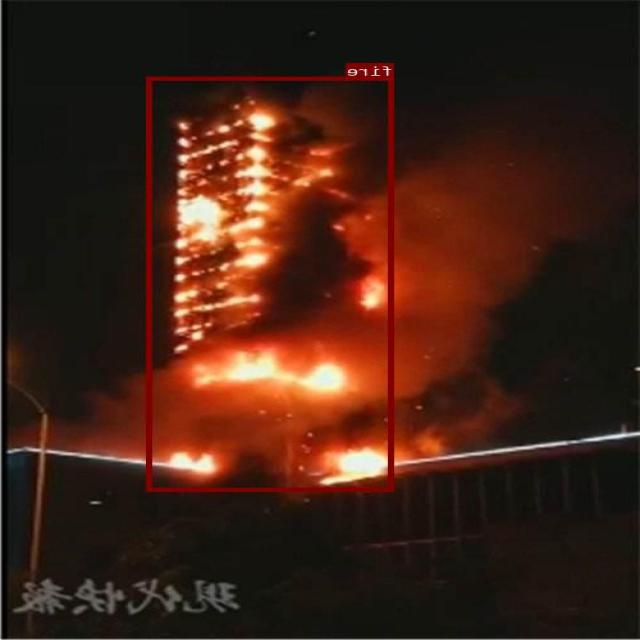fire: (148, 76, 395, 491)
